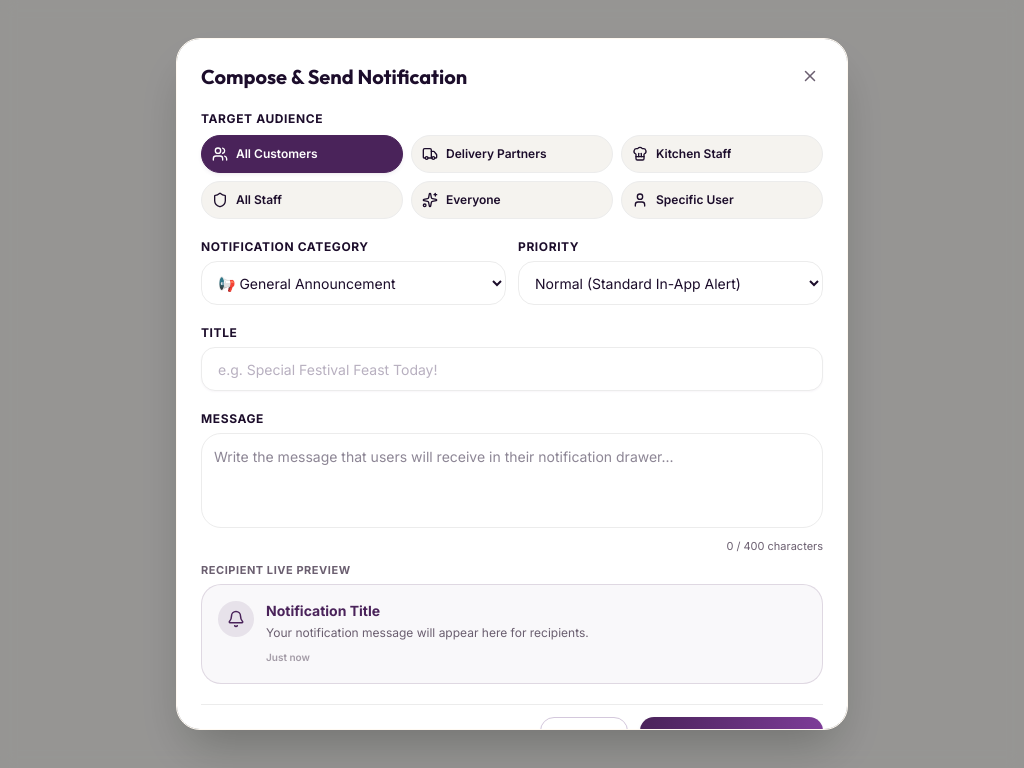
Test: AdminSendNotificationModal › loads and displays users when Specific User is chosen
The width and height of the screenshot is (1024, 768).
What coordinates should you click on to do the following:
click the button "Specific User"
I would click on:
 (722, 200)
Its box is [621,181,823,219].
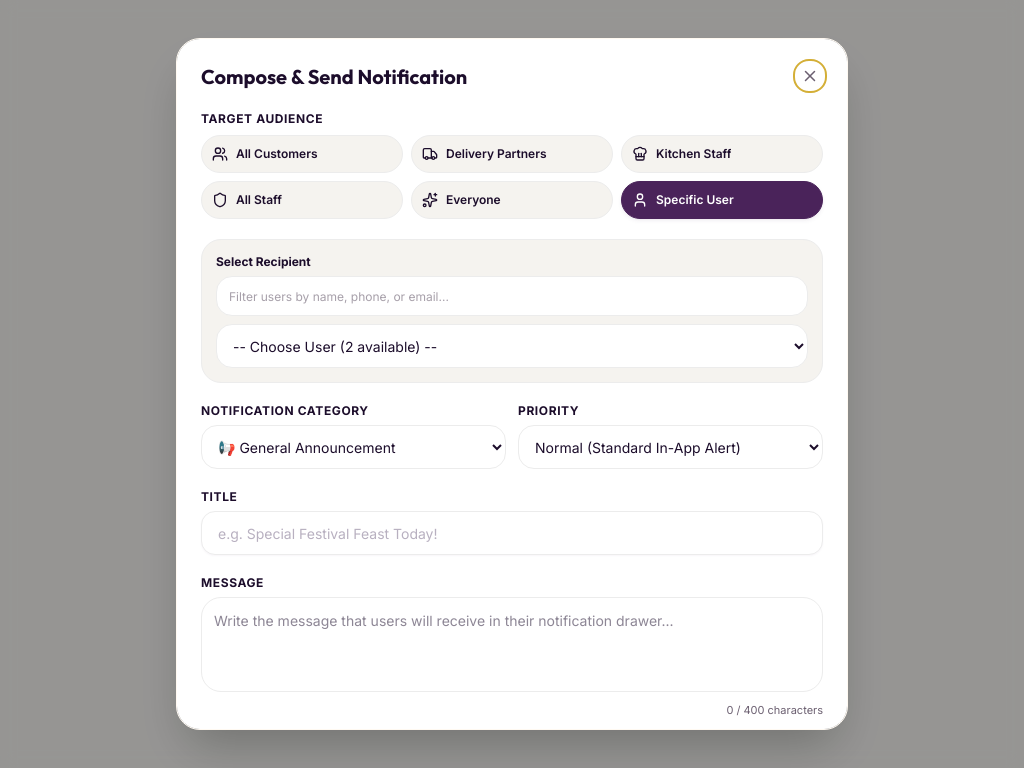
Now the text "Select Recipient" is shown, box [216,254,311,269]
